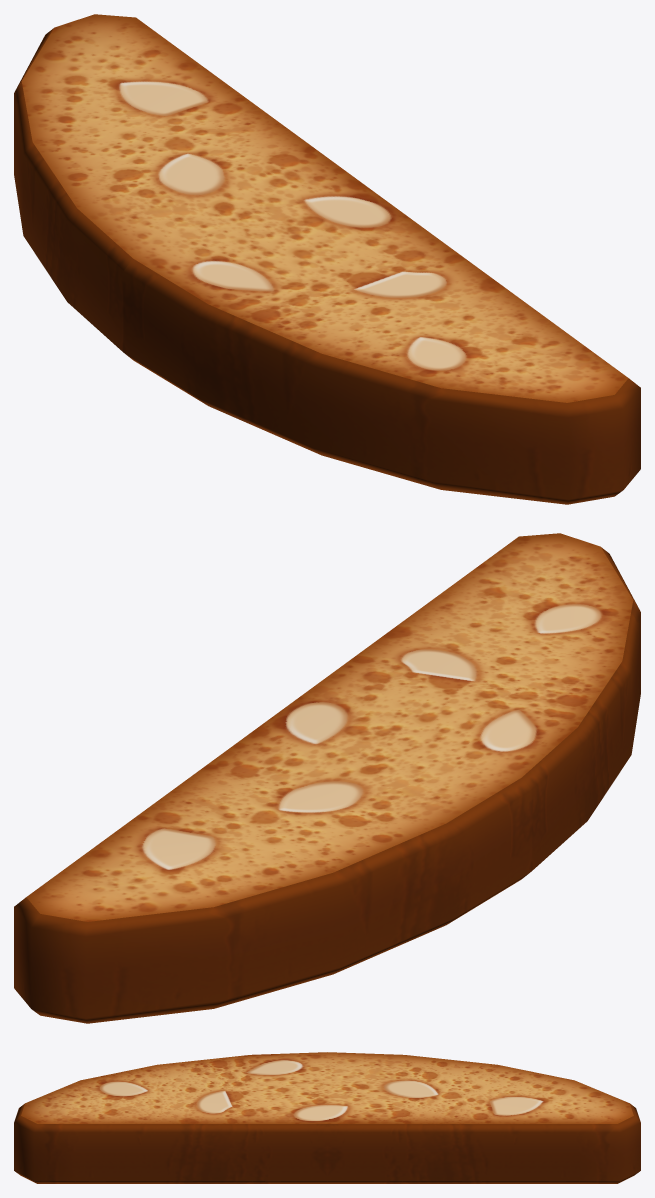
The model's file is Biscotti_01.fbx.
The picture shows the model from 3 angles, top to bottom: view 1: azimuth 30°, elevation 25°; view 2: azimuth 150°, elevation 25°; view 3: azimuth 270°, elevation 25°; orthographic projection. The views are drawn at different scales.
Parts seen in each view (by area): view 1: Biscotti_01; view 2: Biscotti_01; view 3: Biscotti_01.
Part boxes in pixels (box(x1,y1,x2,y2)): Biscotti_01: box(14, 14, 640, 504); Biscotti_01: box(14, 533, 640, 1023); Biscotti_01: box(14, 1052, 640, 1183).
Size of the model in its own units: 17.96 by 6.5 by 61.57.
